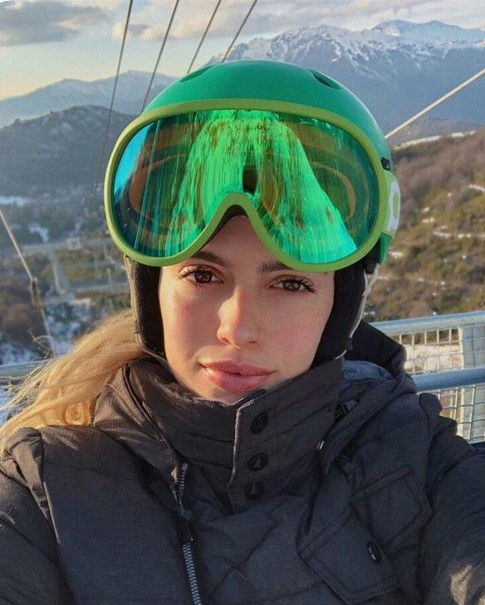face_no_mask: (147, 185, 340, 408)
